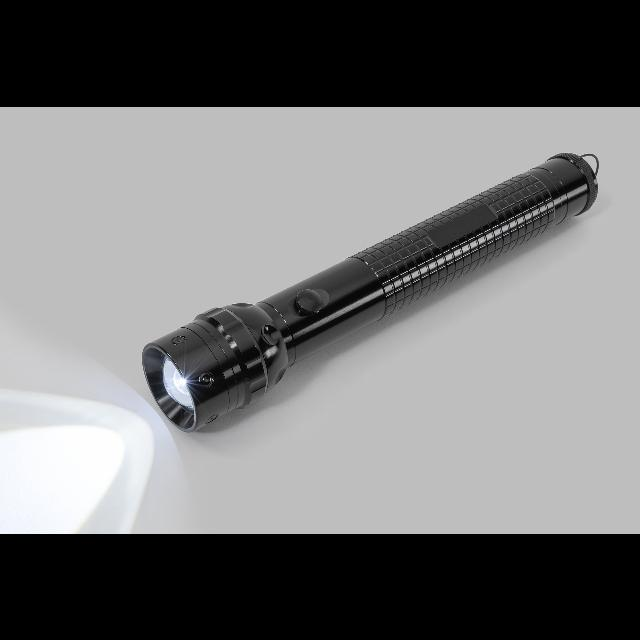Flashlight: (134, 146, 608, 438)
